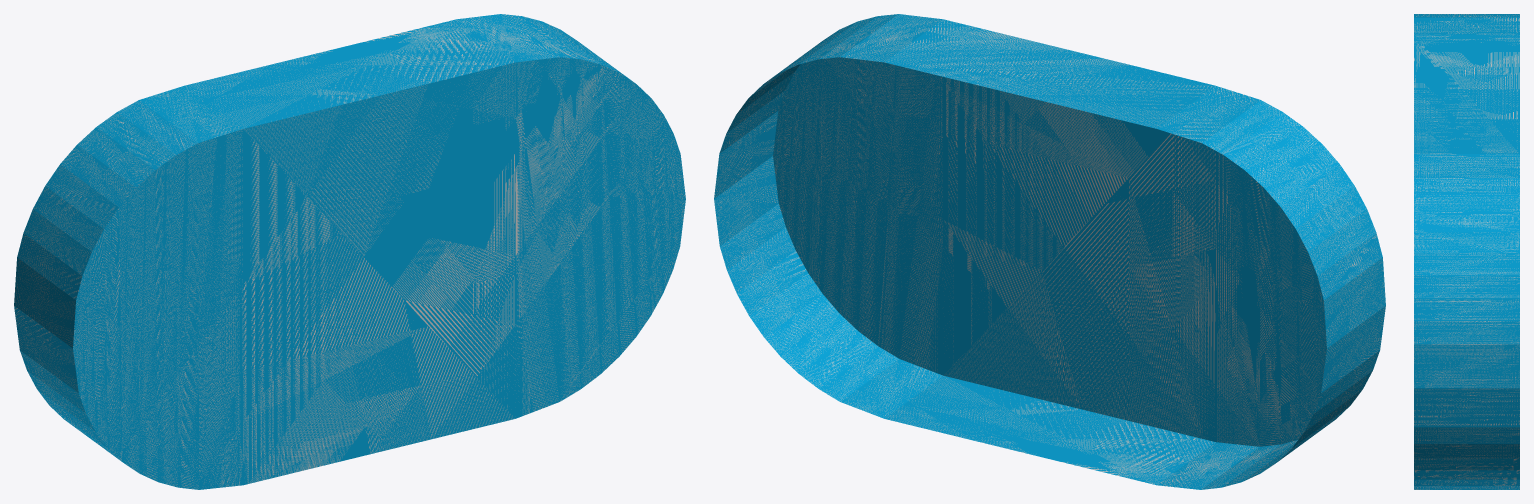
Rendered from original-41.obj.
3 renders of one model, left to right at view 1: azimuth 30°, elevation 25°; view 2: azimuth 150°, elevation 25°; view 3: azimuth 270°, elevation 25°, orthographic. The views are drawn at different scales.
Parts seen in each view (by area): view 1: mesh9/mesh9-geometry/material_0/component_28#mesh9-geometry; view 2: mesh9/mesh9-geometry/material_0/component_28#mesh9-geometry; view 3: mesh9/mesh9-geometry/material_0/component_28#mesh9-geometry.
Boxes of the visible parts, x1,y1,x2,y2 form: mesh9/mesh9-geometry/material_0/component_28#mesh9-geometry: [14, 14, 685, 489]; mesh9/mesh9-geometry/material_0/component_28#mesh9-geometry: [714, 14, 1385, 489]; mesh9/mesh9-geometry/material_0/component_28#mesh9-geometry: [1414, 14, 1519, 489].
Bounding box in the file's own units: 0.091 × 0.0506 × 0.0152.
